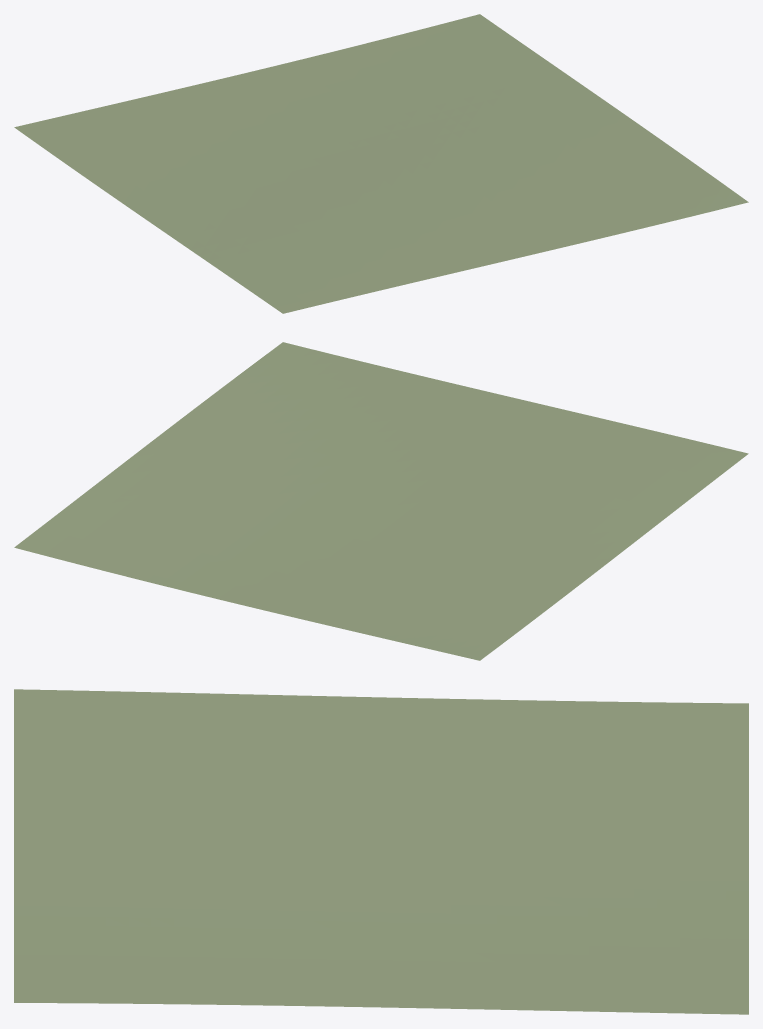
The model's file is expanse-1-15.glb.
The picture shows the model from 3 angles, top to bottom: view 1: azimuth 30°, elevation 25°; view 2: azimuth 150°, elevation 25°; view 3: azimuth 270°, elevation 25°; orthographic projection. The views are drawn at different scales.
Parts seen in each view (by area): view 1: expanse-1-15; view 2: expanse-1-15; view 3: expanse-1-15.
Boxes of the visible parts, box(x1,y1,x2,y2) form: expanse-1-15: box(14, 14, 748, 313); expanse-1-15: box(14, 342, 748, 660); expanse-1-15: box(14, 689, 748, 1014).
Bounding box in the file's own units: 256 × 6.65 × 256.
